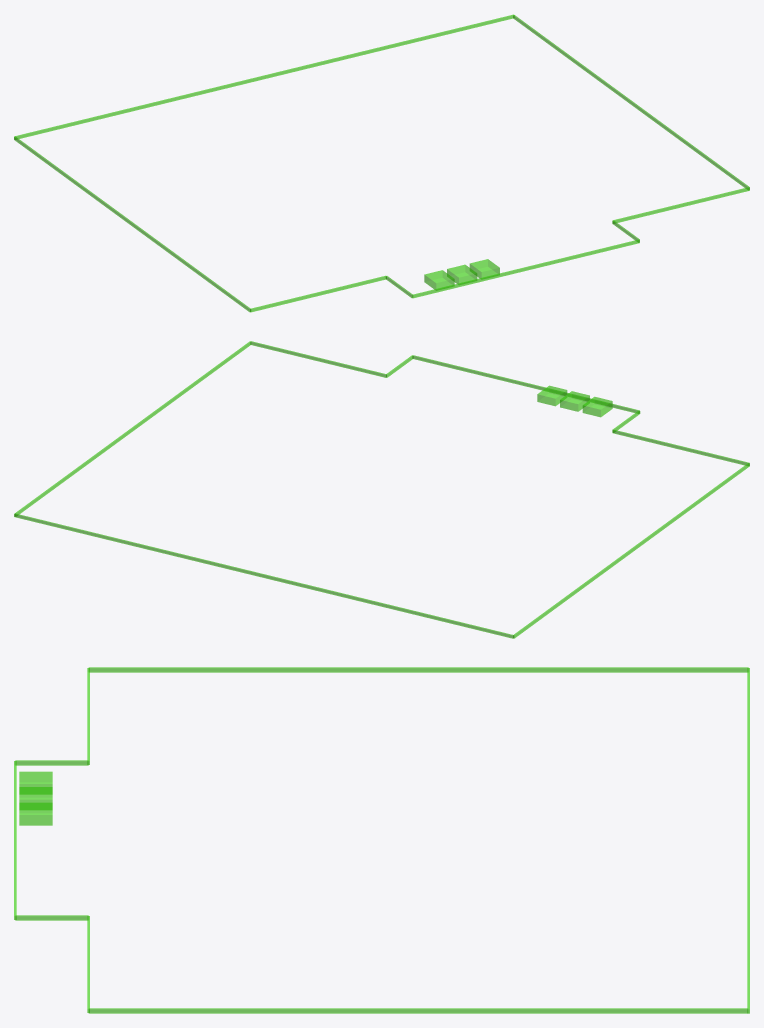
The model's file is track_01_collider.glb.
The picture shows the model from 3 angles, top to bottom: view 1: azimuth 30°, elevation 25°; view 2: azimuth 150°, elevation 25°; view 3: azimuth 270°, elevation 25°; orthographic projection. The views are drawn at different scales.
Visible parts, largest first — view 1: Box_collider_014.001_collider, Box_collider_036.001_collider, Box_collider_037.001_collider, Box_collider_060.001_collider, Box_collider_035.001_collider, Box_collider_034.001_collider; view 2: Box_collider_014.001_collider, Box_collider_036.001_collider, Box_collider_037.001_collider, Box_collider_060.001_collider, Box_collider_035.001_collider, Box_collider_034.001_collider; view 3: Box_collider_037.001_collider, Box_collider_036.001_collider, Box_collider_014.001_collider, Box_collider_067.001_collider, Box_collider_065.001_collider, Box_collider_066.001_collider.
Part boxes in pixels (x1=…): Box_collider_014.001_collider: x1=14, y1=14, x2=514, y2=139; Box_collider_036.001_collider: x1=14, y1=136, x2=250, y2=311; Box_collider_037.001_collider: x1=513, y1=15, x2=749, y2=190; Box_collider_060.001_collider: x1=412, y1=239, x2=639, y2=298; Box_collider_035.001_collider: x1=613, y1=187, x2=749, y2=223; Box_collider_034.001_collider: x1=250, y1=276, x2=386, y2=312; Box_collider_014.001_collider: x1=14, y1=513, x2=513, y2=638; Box_collider_036.001_collider: x1=513, y1=463, x2=749, y2=638; Box_collider_037.001_collider: x1=15, y1=341, x2=250, y2=516; Box_collider_060.001_collider: x1=412, y1=355, x2=639, y2=413; Box_collider_035.001_collider: x1=250, y1=341, x2=386, y2=377; Box_collider_034.001_collider: x1=612, y1=430, x2=749, y2=465; Box_collider_037.001_collider: x1=88, y1=1008, x2=748, y2=1013; Box_collider_036.001_collider: x1=89, y1=667, x2=748, y2=672; Box_collider_014.001_collider: x1=747, y1=668, x2=749, y2=1013; Box_collider_067.001_collider: x1=19, y1=802, x2=52, y2=825; Box_collider_065.001_collider: x1=19, y1=771, x2=52, y2=794; Box_collider_066.001_collider: x1=19, y1=787, x2=52, y2=809.
Size of the model in its own units: 177 by 2.6 by 161.
